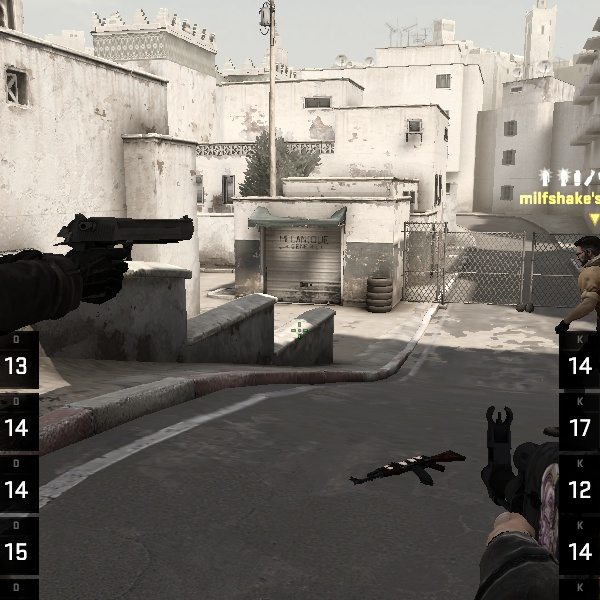t_head: (571, 229, 600, 273)
